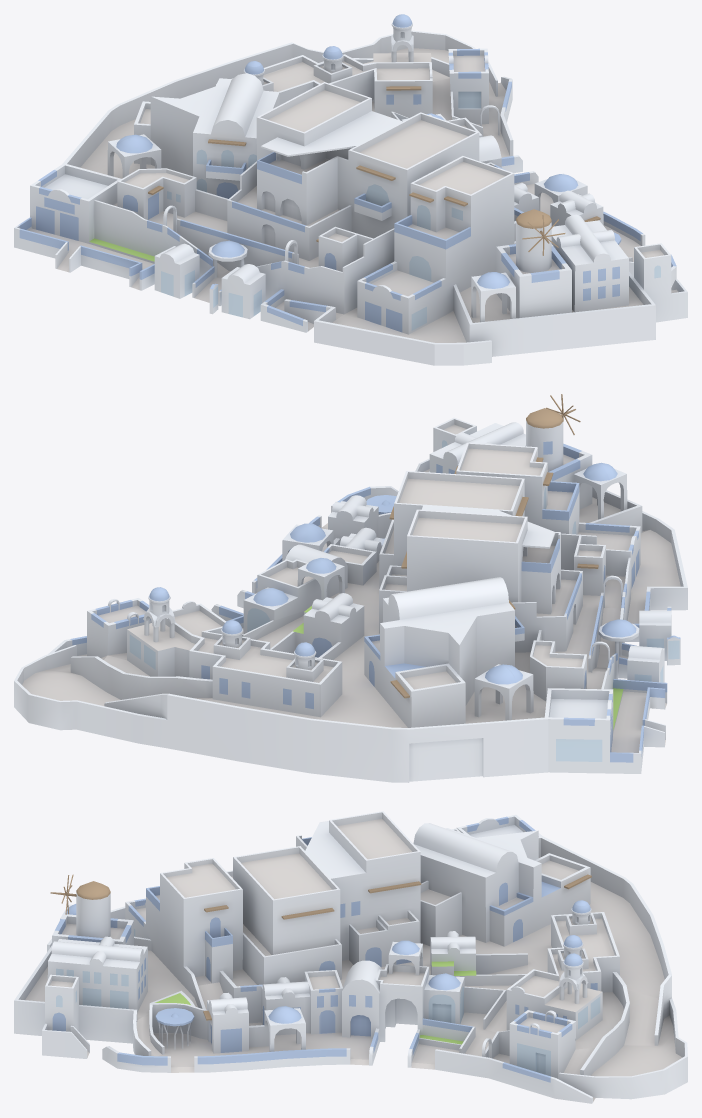
The picture shows the model from 3 angles, top to bottom: view 1: azimuth 30°, elevation 25°; view 2: azimuth 150°, elevation 25°; view 3: azimuth 270°, elevation 25°; orthographic projection. The views are drawn at different scales.
Parts seen in each view (by area): view 1: 70030076681990810_baked; view 2: 70030076681990810_baked; view 3: 70030076681990810_baked.
Part boxes in pixels (<box>): 70030076681990810_baked: <box>14,14,687,365</box>; 70030076681990810_baked: <box>14,394,687,782</box>; 70030076681990810_baked: <box>14,811,687,1103</box>.
Size of the model in its own units: 52.67 by 12.34 by 59.77.
1 material, 1 textured.
